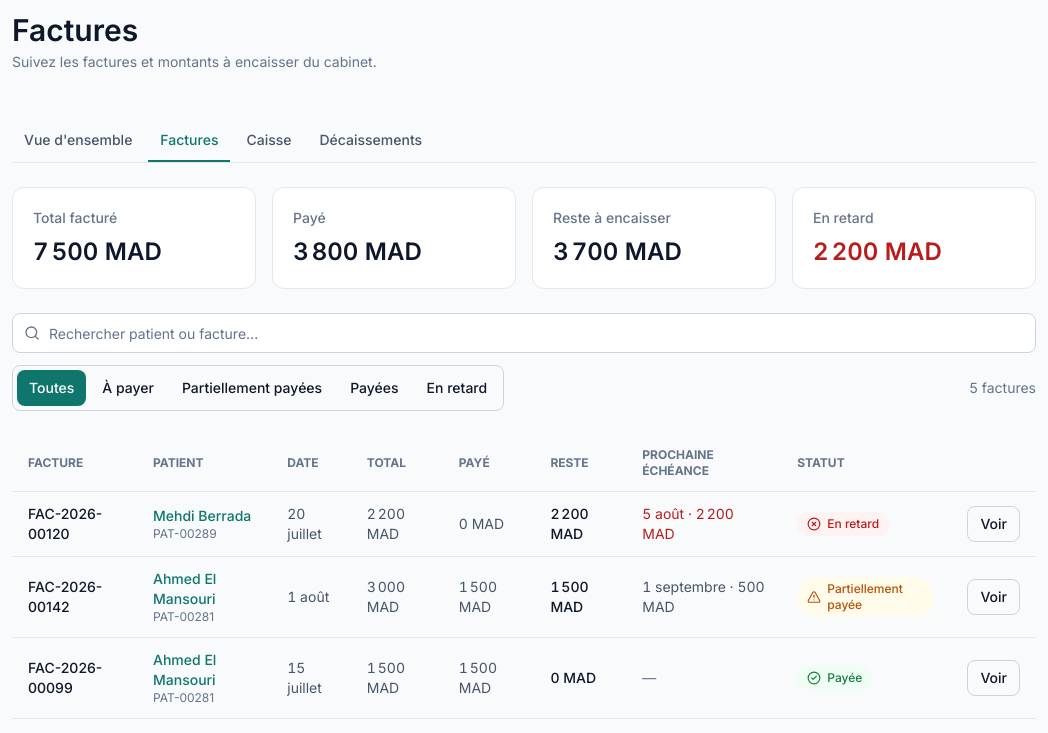
Test: GlobalInvoicesPage › 'Partiellement payées' filter matches only partially_paid invoices
The image size is (1048, 733).
Click the button "Partiellement payées" at (252, 388), box top-left (170, 370), bottom-right (334, 406)
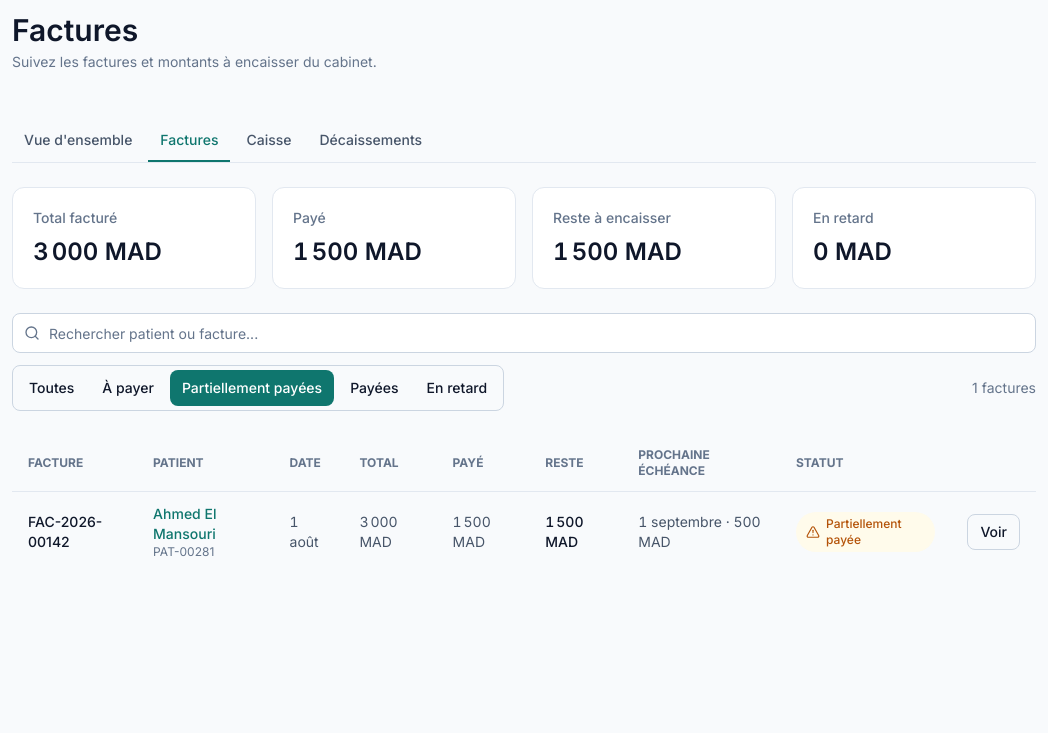
Check: the text "FAC-2026-00142" is shown, box top-left (12, 492), bottom-right (137, 572)
Check: the text "1 factures" is shown, box top-left (972, 378), bottom-right (1036, 398)
